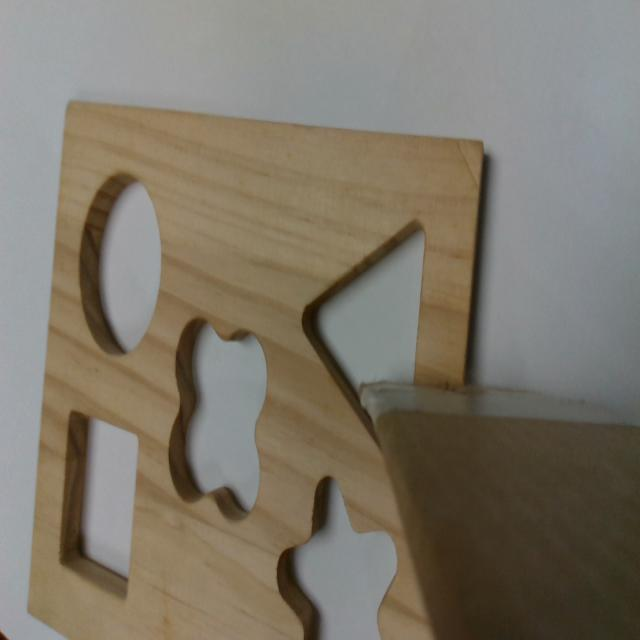circle: (77, 172, 162, 356)
flower: (168, 318, 267, 522)
square: (59, 408, 140, 605)
star: (277, 476, 398, 639)
triangle: (300, 215, 428, 457)
